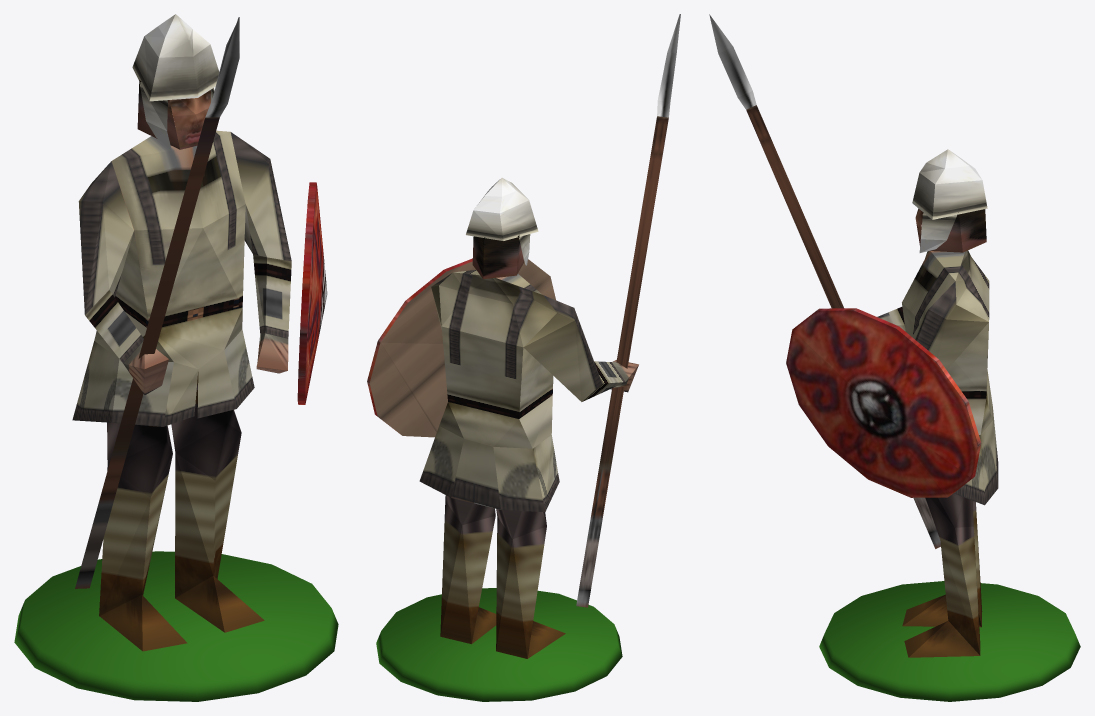
The model's file is roman_spear.glb.
The picture shows the model from 3 angles, left to right: view 1: azimuth 30°, elevation 25°; view 2: azimuth 150°, elevation 25°; view 3: azimuth 270°, elevation 25°; orthographic projection. The views are drawn at different scales.
Visible parts, largest first — view 1: roman_spearman; view 2: roman_spearman; view 3: roman_spearman.
Part boxes in pixels (x1,y1,x2,y2): roman_spearman: [14, 14, 338, 701]; roman_spearman: [367, 14, 680, 701]; roman_spearman: [709, 14, 1080, 701].
Bounding box in the file's own units: 2.1 × 5.05 × 2.84.
Materials: 2 (1 with a texture image).
